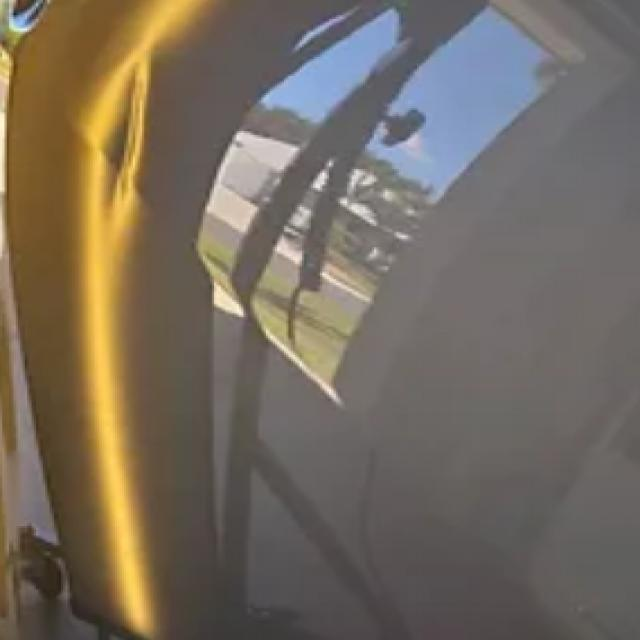dents: (74, 45, 187, 284)
